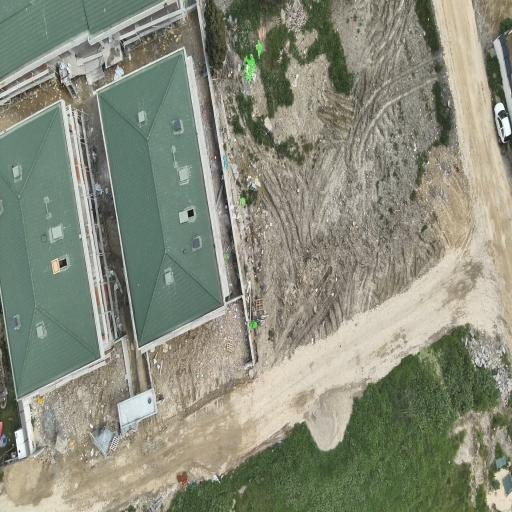car: (495, 103, 511, 143)
